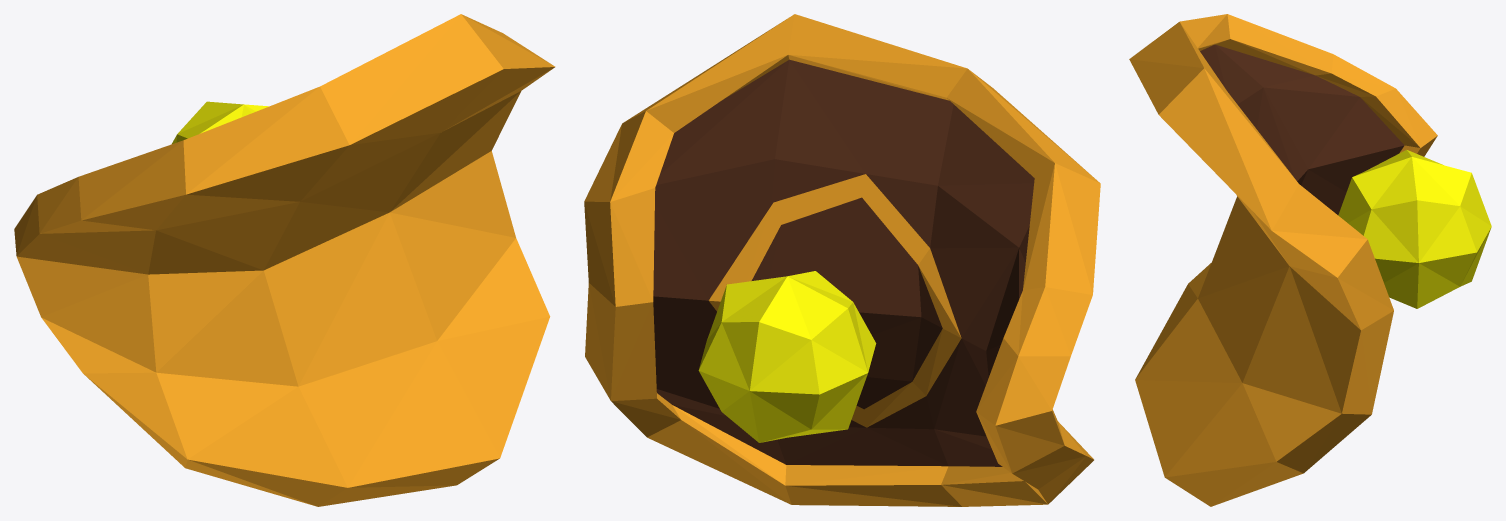
File: Pauldron 12.FBX
3 renders of one model, left to right at view 1: azimuth 30°, elevation 25°; view 2: azimuth 150°, elevation 25°; view 3: azimuth 270°, elevation 25°, orthographic. The views are drawn at different scales.
Visible parts, largest first — view 1: Pauldron 12, Pauldron 12 Orb; view 2: Pauldron 12, Pauldron 12 Orb; view 3: Pauldron 12, Pauldron 12 Orb.
Part boxes in pixels (bbox=[...]): Pauldron 12: bbox=[14, 14, 555, 506]; Pauldron 12 Orb: bbox=[172, 101, 268, 143]; Pauldron 12: bbox=[584, 14, 1100, 506]; Pauldron 12 Orb: bbox=[698, 271, 876, 442]; Pauldron 12: bbox=[1129, 14, 1437, 506]; Pauldron 12 Orb: bbox=[1338, 149, 1491, 308].
Bounding box in the file's own units: 36.83 × 26.03 × 34.77.
1 material, 1 textured.
